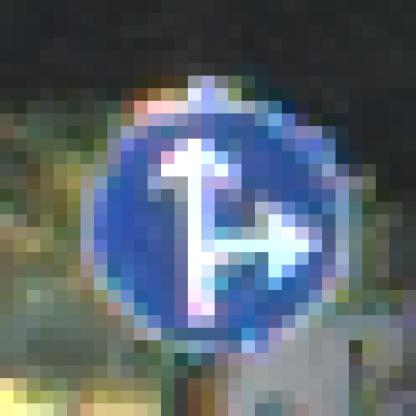Straight or Right: (68, 77, 350, 341)
